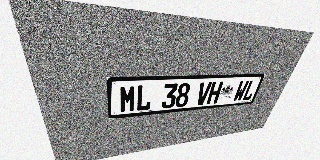3: (161, 83, 178, 109)
8: (174, 83, 192, 107)
H: (206, 81, 224, 104)
L: (136, 84, 153, 111), (241, 80, 259, 101)
M: (119, 85, 136, 113)
V: (195, 82, 212, 105)
W: (232, 80, 250, 102)
